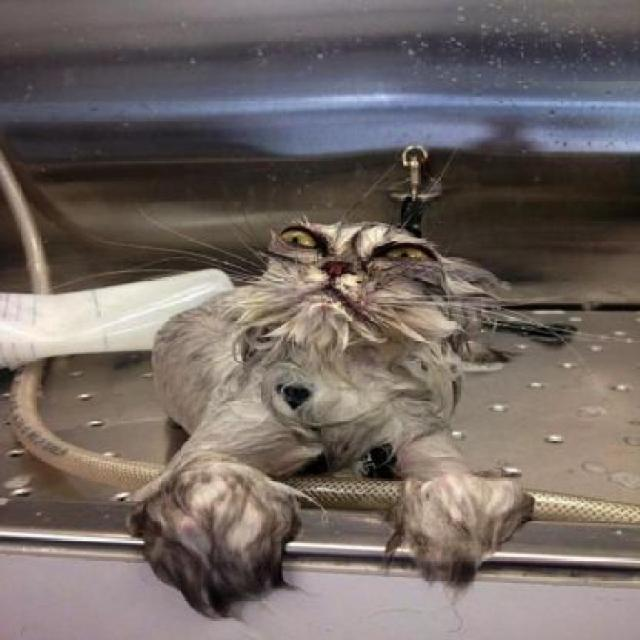cat: (95, 216, 533, 607)
